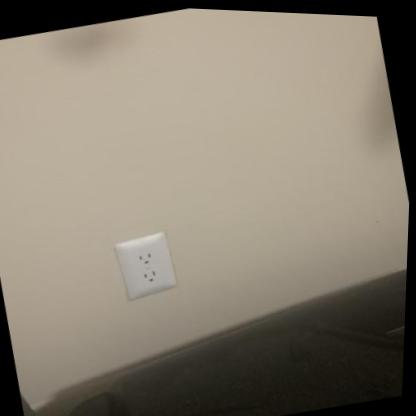OUTLET: (116, 227, 179, 301)
